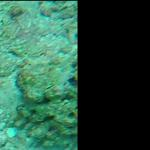dead: (3, 2, 76, 145)
